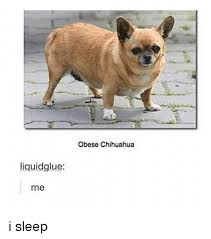chihuahua: (43, 16, 176, 122)
